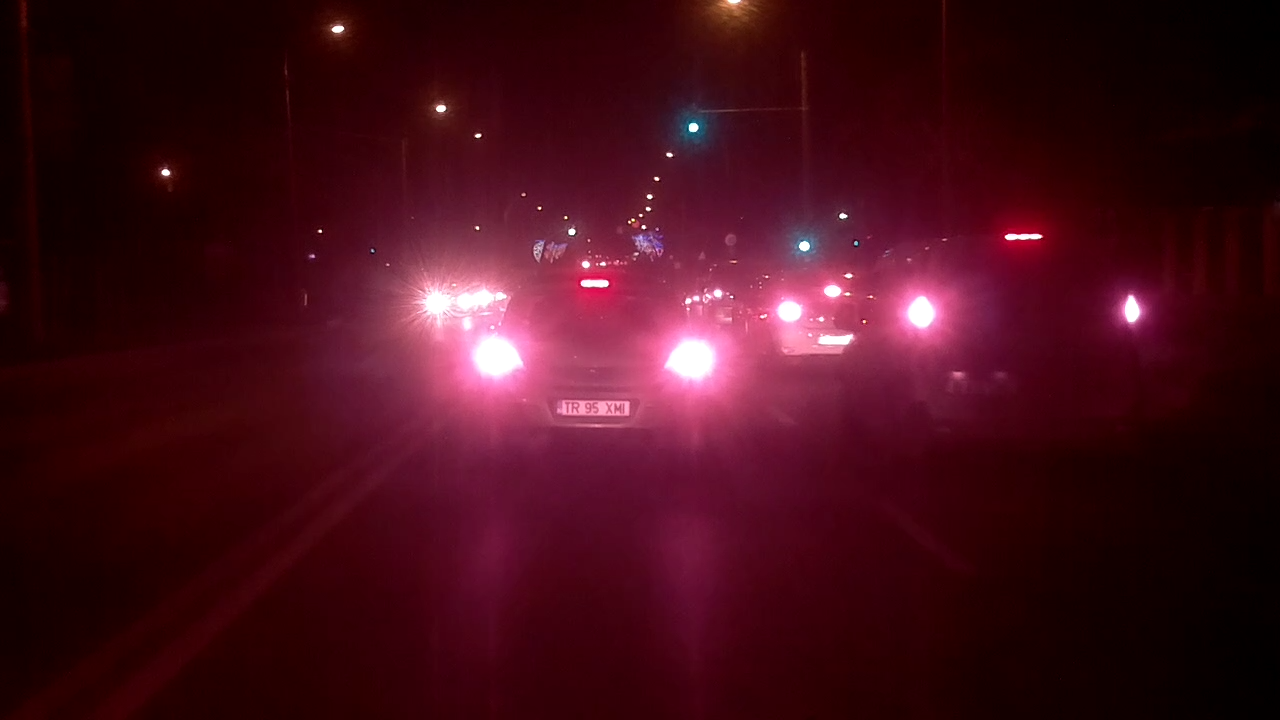license-plate: (551, 396, 633, 419)
